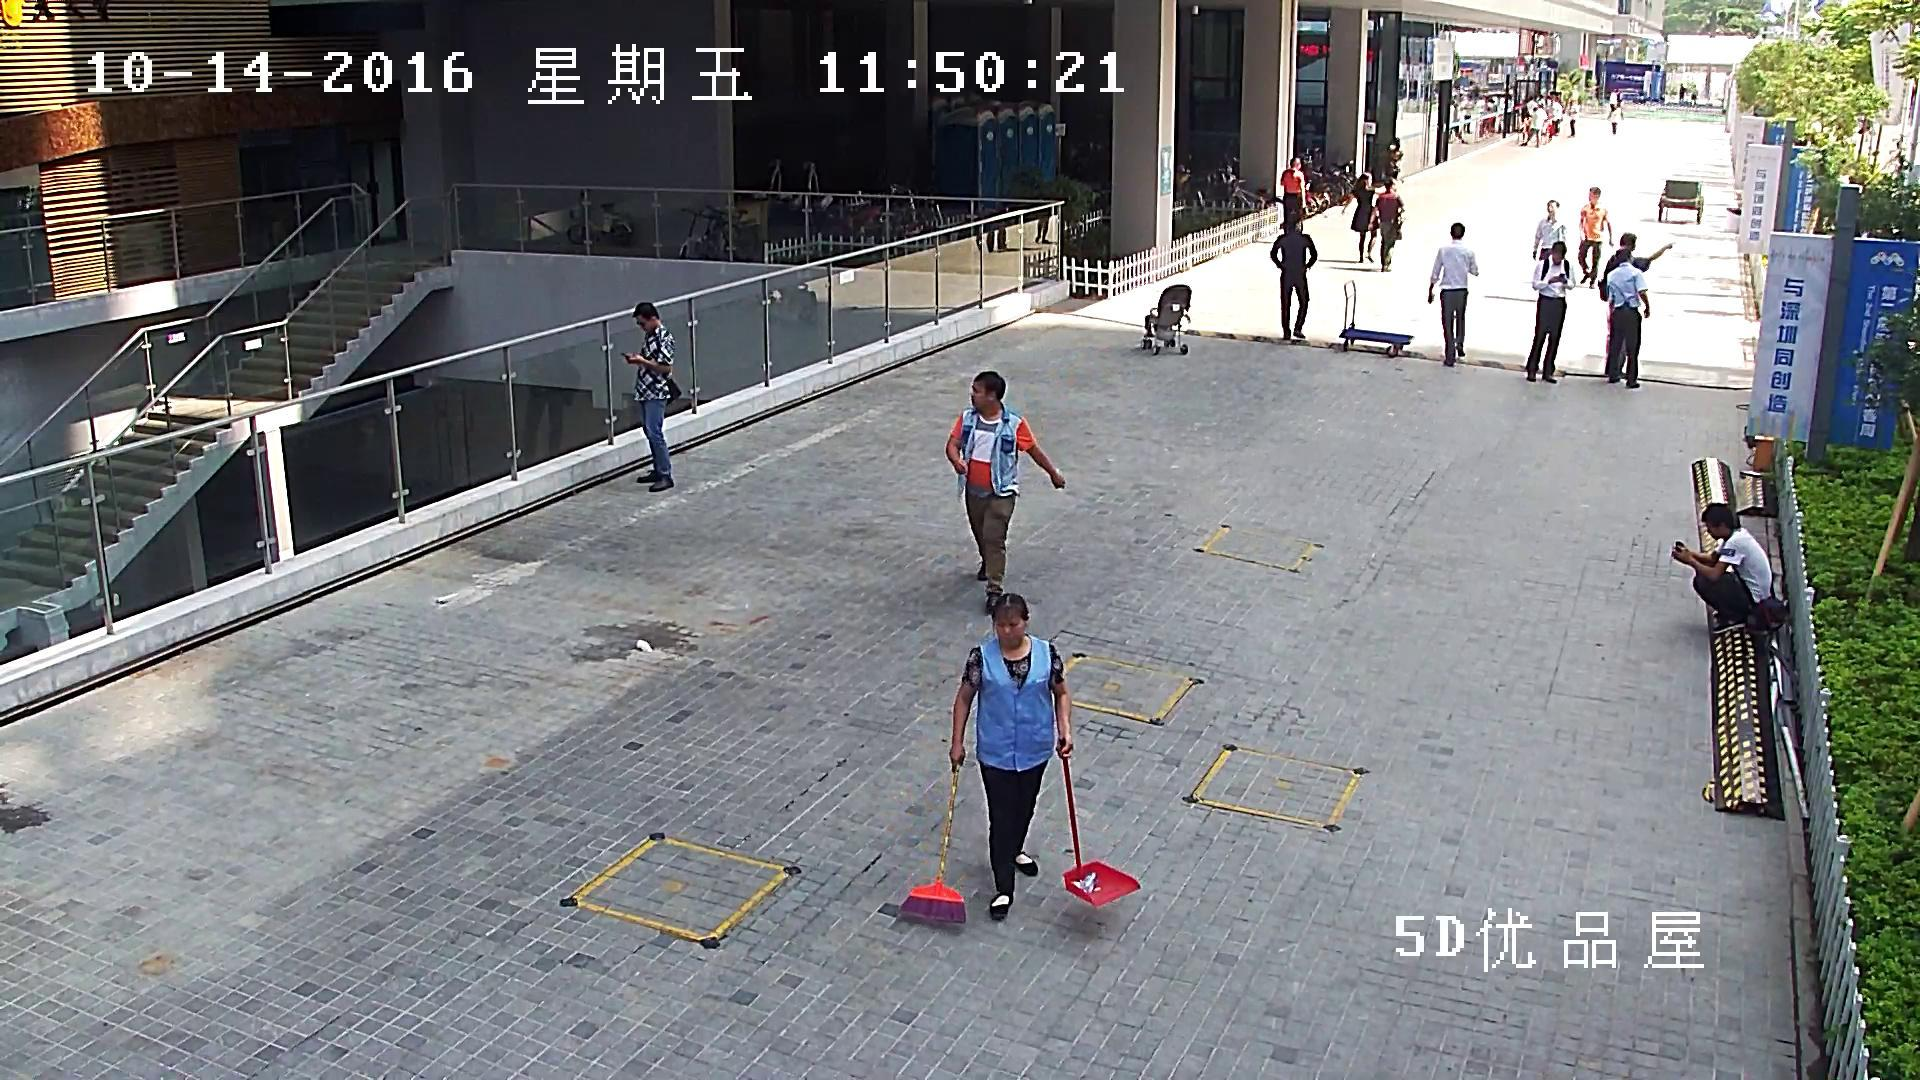person: (895, 591, 1142, 925), (948, 591, 1074, 920), (943, 370, 1065, 612), (1669, 502, 1788, 635), (620, 301, 683, 492), (1596, 232, 1673, 378), (1426, 220, 1479, 367), (517, 348, 580, 465), (1524, 240, 1576, 383), (1268, 213, 1317, 340), (1605, 249, 1650, 387), (1577, 186, 1614, 290), (1339, 171, 1381, 263), (1367, 178, 1405, 272), (1532, 200, 1566, 261), (1279, 155, 1306, 234), (1518, 104, 1548, 147), (1383, 137, 1403, 190), (1448, 103, 1467, 144), (1549, 97, 1563, 136), (1462, 94, 1473, 135), (1566, 99, 1576, 138), (1614, 88, 1624, 119), (1609, 107, 1617, 134), (1526, 96, 1538, 114), (1609, 87, 1617, 111), (1689, 83, 1697, 105), (1679, 82, 1685, 102)
